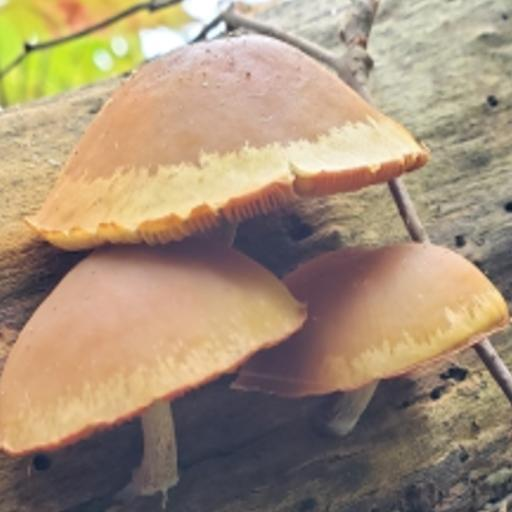mushroom: (5, 38, 509, 491)
